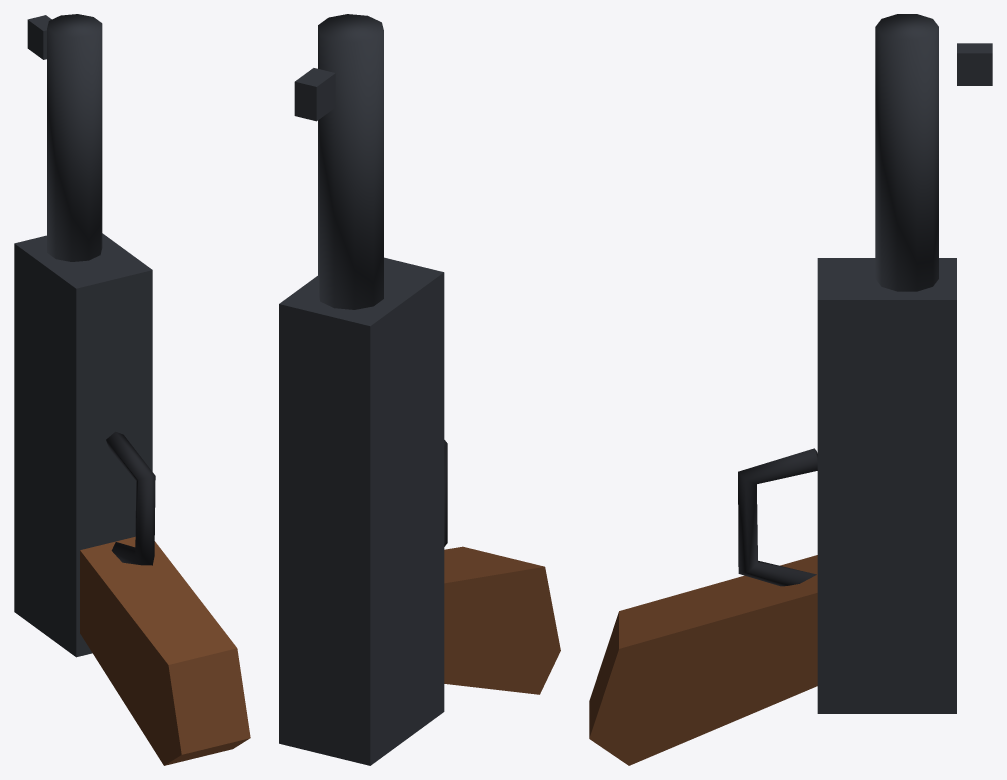
File: handgun.glb
3 views of the same model, side by side, from view 1: azimuth 30°, elevation 25°; view 2: azimuth 150°, elevation 25°; view 3: azimuth 270°, elevation 25° (orthographic). The views are drawn at different scales.
Parts seen in each view (by area): view 1: handgun_v0; view 2: handgun_v0; view 3: handgun_v0.
Part boxes in pixels (bbox=[...]): handgun_v0: bbox=[14, 14, 250, 765]; handgun_v0: bbox=[279, 14, 560, 765]; handgun_v0: bbox=[589, 14, 992, 765].
Size of the model in its own units: 0.05 by 0.4 by 0.203.
